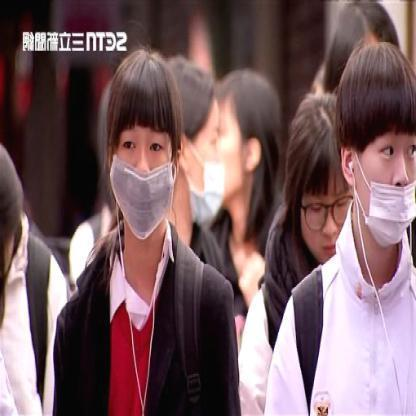mask_weared_incorrect: (355, 136, 415, 248)
with_mask: (110, 131, 174, 244), (190, 122, 228, 230)
without_mask: (301, 184, 355, 266)
